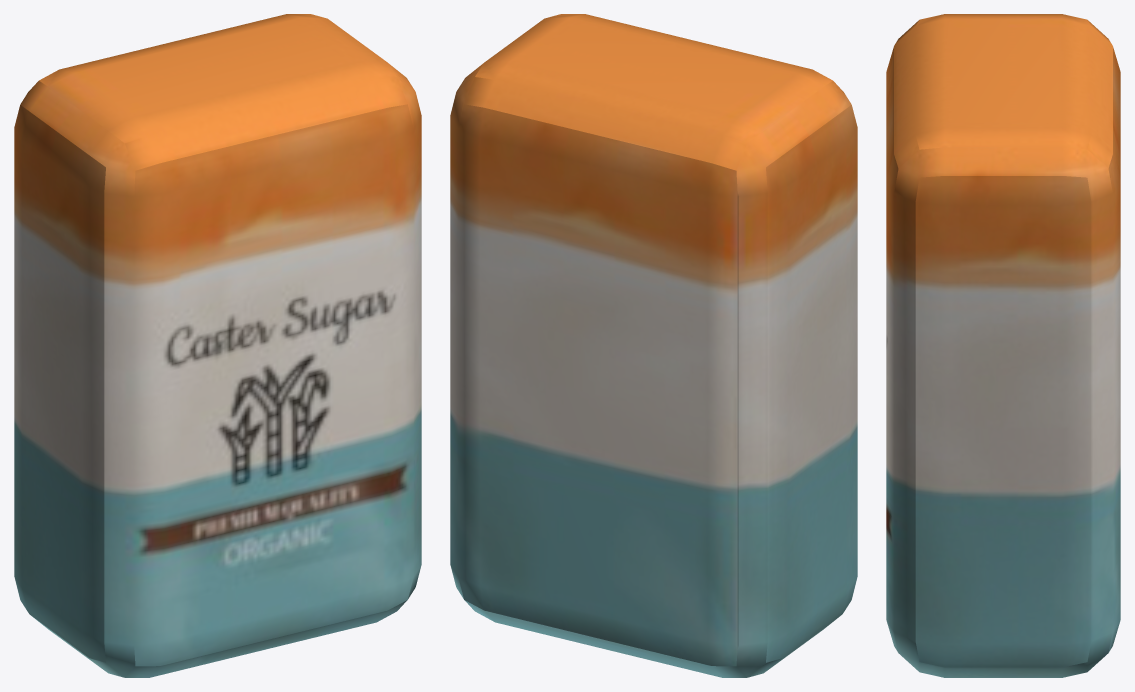
File: casterSugar.gltf
The picture shows the model from 3 angles, left to right: view 1: azimuth 30°, elevation 25°; view 2: azimuth 150°, elevation 25°; view 3: azimuth 270°, elevation 25°; orthographic projection. The views are drawn at different scales.
Parts seen in each view (by area): view 1: CasterSugar; view 2: CasterSugar; view 3: CasterSugar.
Part boxes in pixels (x1,y1,x2,y2): CasterSugar: (14,14,421,677); CasterSugar: (450,14,857,677); CasterSugar: (886,14,1120,677).
Bounding box in the file's own units: 0.1297 × 0.2083 × 0.0813.
1 material, 1 textured.
